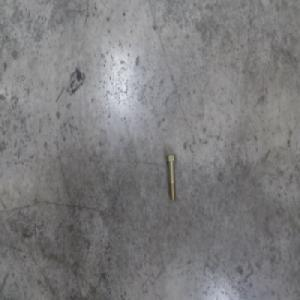Bolt: (163, 152, 175, 201)
